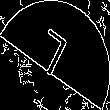L_SW: (33, 25, 77, 85)
